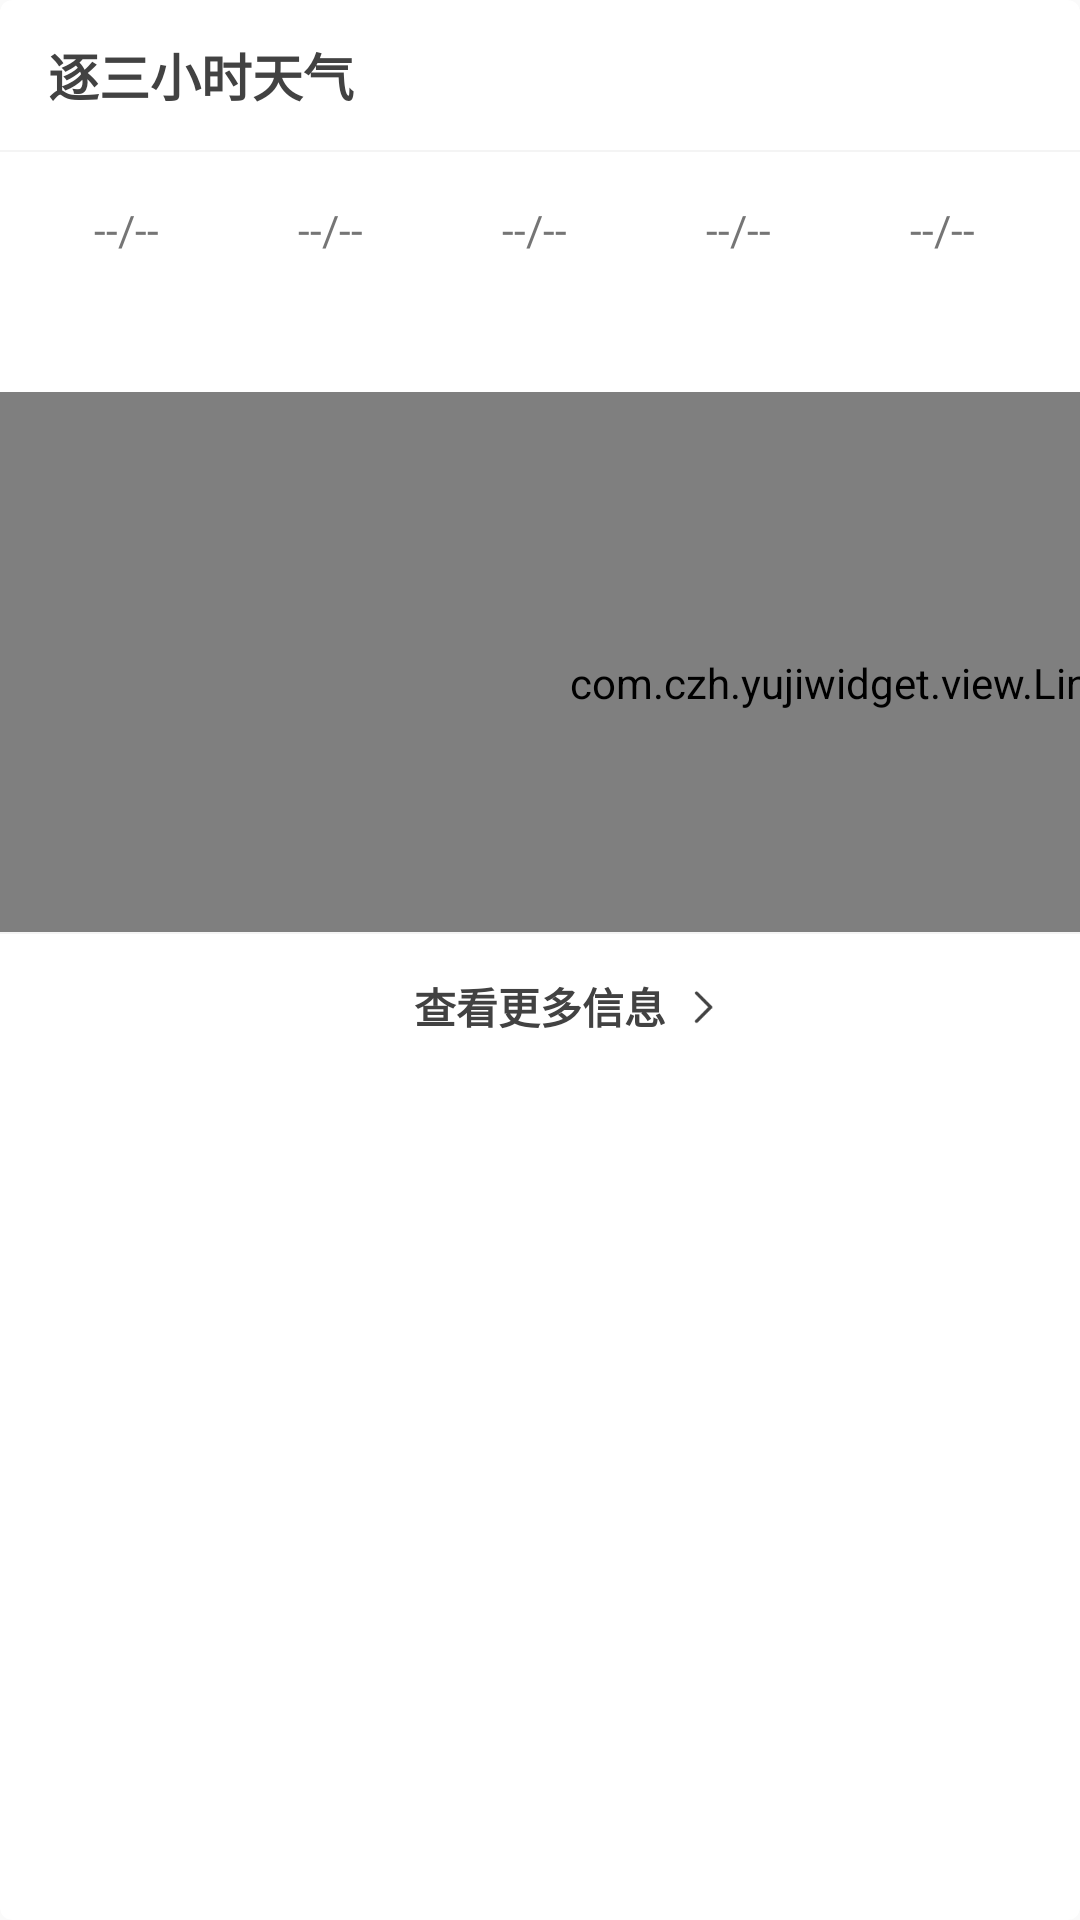

Icon bounding boxes for this 1080*1920 phone screenshot, format [x1,y1,x2,y2]:
right: [694,991,713,1023]
